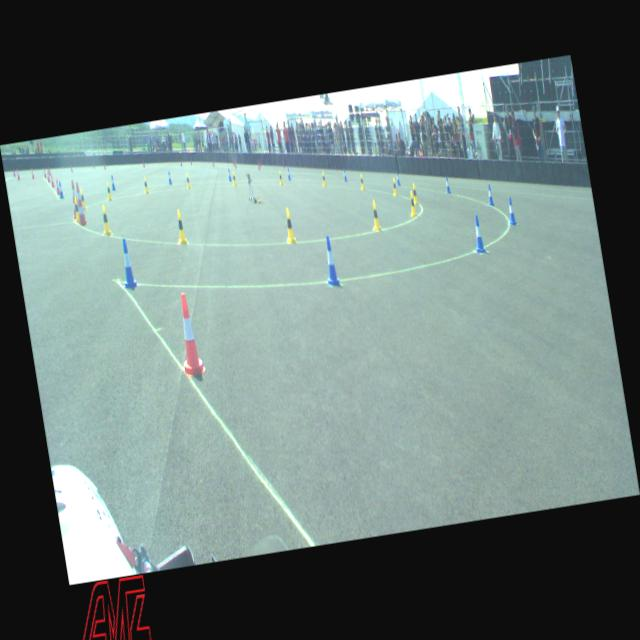blue_cone: (118, 238, 138, 290), (320, 235, 340, 287), (471, 214, 486, 254), (506, 197, 517, 226), (486, 184, 494, 206), (444, 176, 450, 194), (58, 181, 64, 199), (110, 175, 116, 191), (342, 168, 348, 182), (227, 168, 232, 182), (396, 171, 400, 186), (168, 171, 172, 184), (287, 168, 291, 180)
large_orange_cone: (73, 182, 88, 226), (68, 180, 80, 220)
orange_cone: (170, 291, 207, 377), (50, 174, 55, 188), (56, 178, 60, 194), (16, 169, 21, 180), (46, 170, 50, 182), (31, 168, 35, 179), (44, 168, 46, 178)
yellow_cone: (282, 208, 296, 244), (174, 208, 187, 244), (98, 203, 112, 236), (370, 200, 382, 232), (408, 191, 418, 217), (72, 196, 81, 224), (80, 188, 87, 211), (412, 183, 418, 205), (392, 177, 398, 196), (143, 176, 149, 194), (106, 182, 112, 200), (359, 173, 365, 190), (278, 170, 284, 186), (185, 172, 191, 188), (232, 170, 237, 187), (322, 170, 326, 187)
